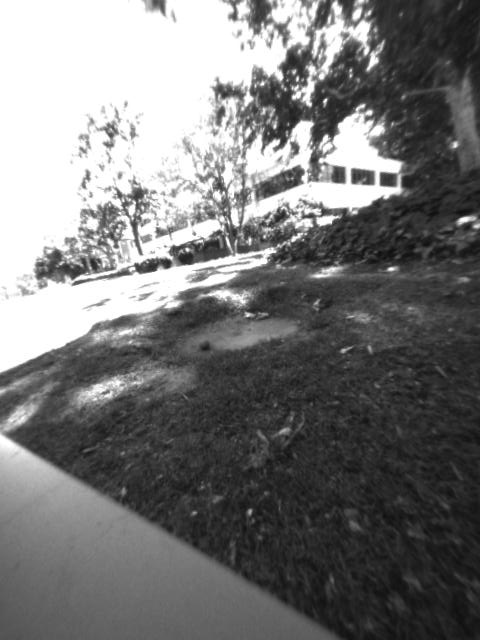dogtoy: (192, 335, 219, 358)
